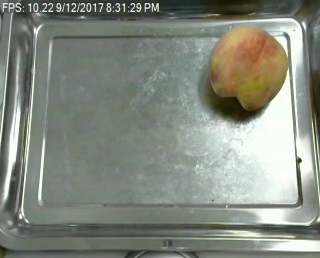Peach: (207, 24, 287, 111)
